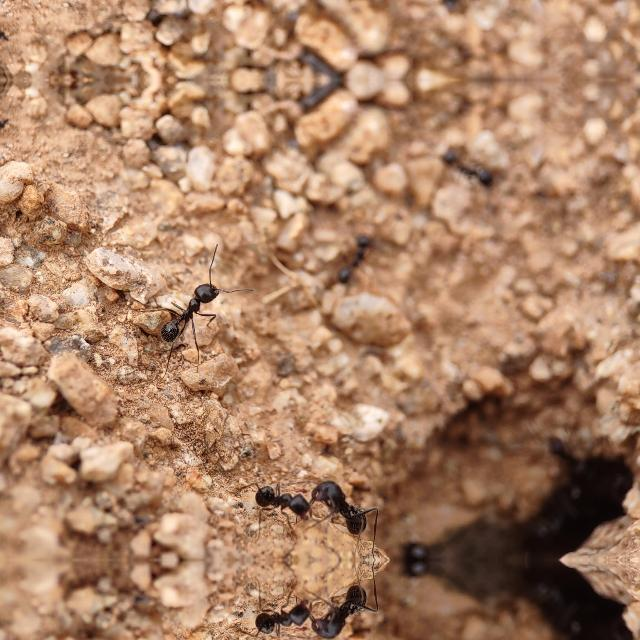Messor: (135, 261, 235, 359), (326, 222, 394, 314), (430, 132, 506, 210), (310, 470, 374, 544), (245, 472, 313, 534), (310, 575, 374, 640), (245, 586, 313, 640), (536, 422, 586, 482), (430, 0, 505, 28), (398, 536, 438, 560), (398, 560, 438, 584)
